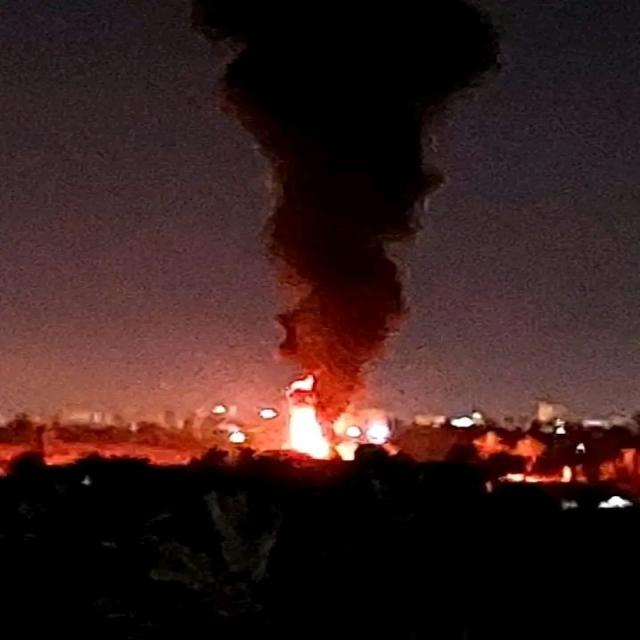Fire: (274, 403, 394, 463)
Smoke: (187, 0, 509, 406)
